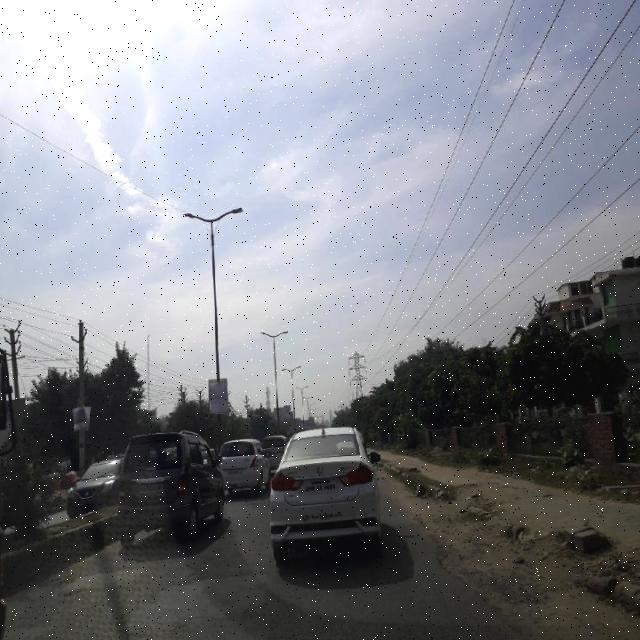D40: (111, 566, 275, 638)
